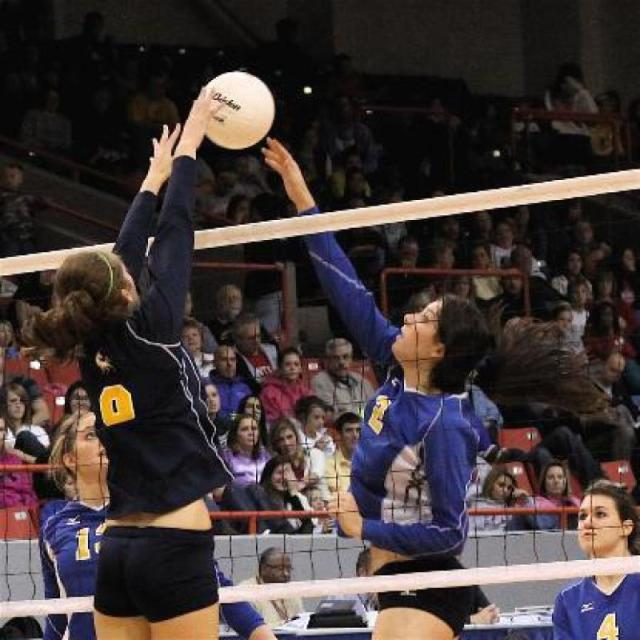volleyball: (198, 64, 282, 152)
